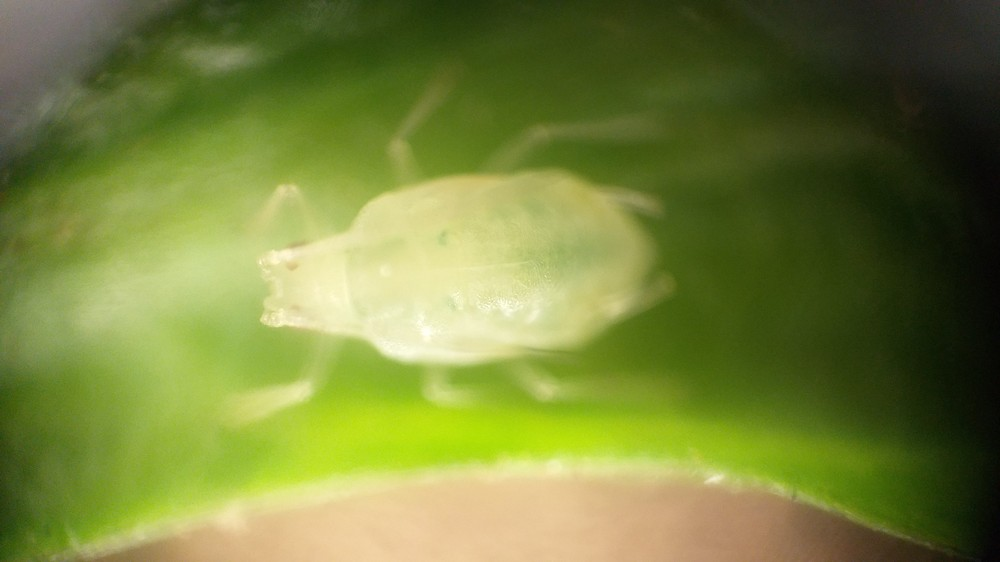Pulgon: (218, 80, 735, 418)
